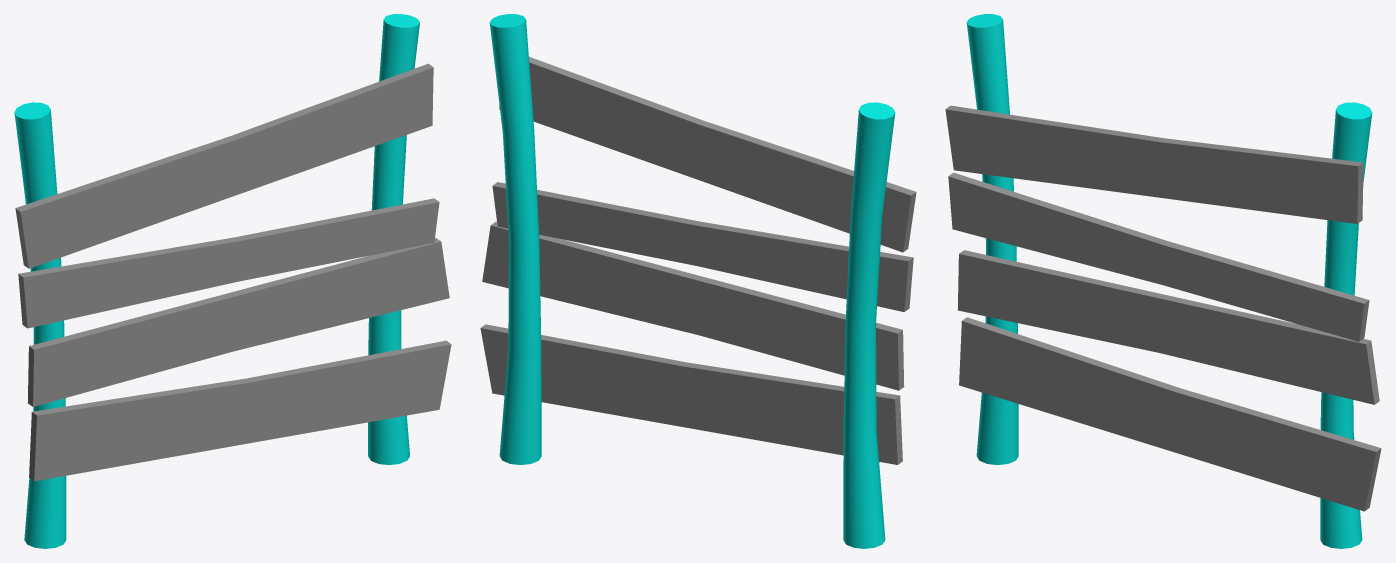
File: Porte.fbx
3 views of the same model, side by side, from view 1: azimuth 30°, elevation 25°; view 2: azimuth 150°, elevation 25°; view 3: azimuth 330°, elevation 25° (orthographic).
Visible parts, largest first — view 1: Cylinder001; view 2: Cylinder001; view 3: Cylinder001.
Part boxes in pixels (x1=…): Cylinder001: x1=14, y1=14, x2=451, y2=548; Cylinder001: x1=480, y1=14, x2=916, y2=548; Cylinder001: x1=945, y1=14, x2=1381, y2=548.
Bounding box in the file's own units: 82.51 × 79.4 × 8.04.
